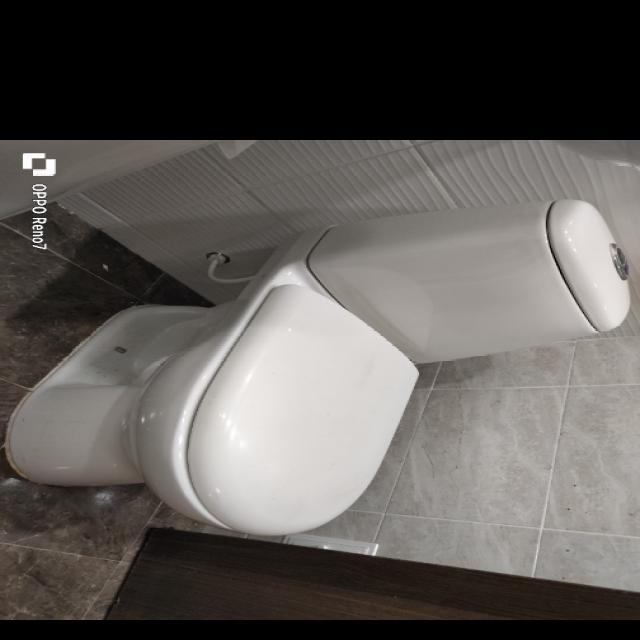toilet: (4, 198, 630, 536)
